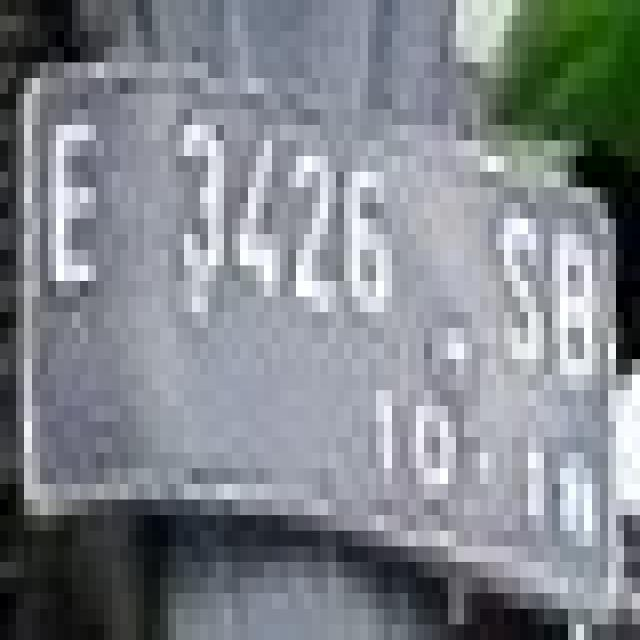plate: (8, 47, 616, 609)
